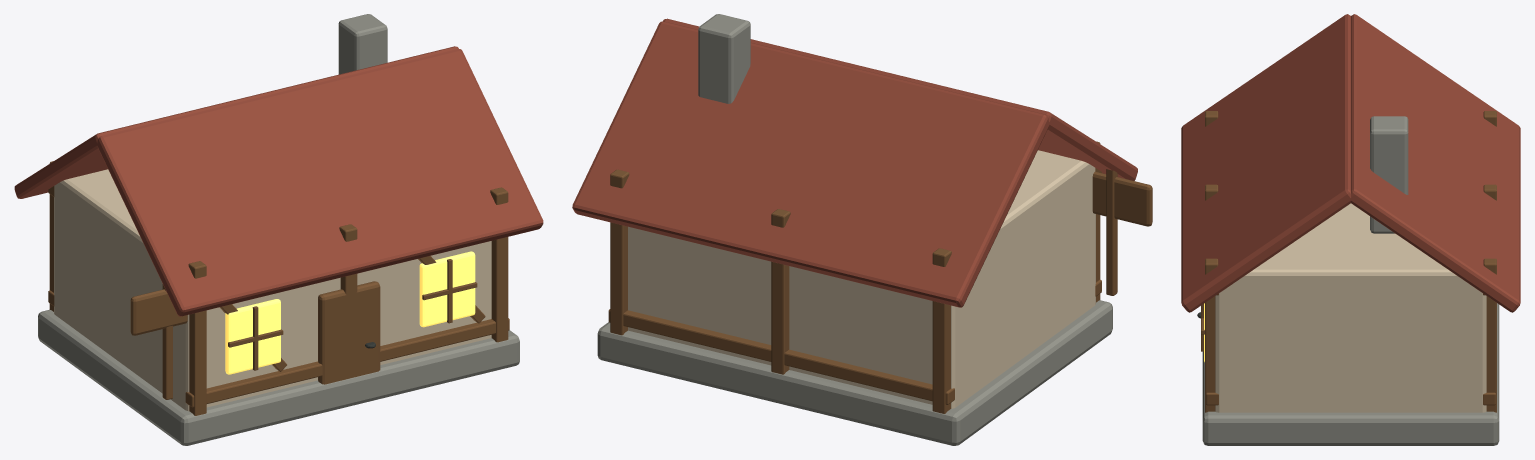
Rendered from medieval-inn.glb.
The picture shows the model from 3 angles, left to right: view 1: azimuth 30°, elevation 25°; view 2: azimuth 150°, elevation 25°; view 3: azimuth 270°, elevation 25°; orthographic projection. The views are drawn at different scales.
Parts seen in each view (by area): view 1: RoofLeft, PlasterWalls, StoneFoundation, Door, RoofRight, OakBeam.002, GlowingWindow.001, GlowingWindow, Chimney, OakPost.004, OakPost, InnSign (+3 smaller); view 2: RoofRight, PlasterWalls, StoneFoundation, OakBeam, RoofLeft, Chimney, OakPost.001, OakPost.003, InnSign, OakPost.005, SignPost; view 3: PlasterWalls, RoofLeft, RoofRight, StoneFoundation, Chimney, OakPost.004, OakPost.005.
Part boxes in pixels (x1,y1,x2,y2): RoofLeft: [96, 49, 543, 316]; PlasterWalls: [54, 169, 491, 411]; StoneFoundation: [38, 309, 519, 445]; Door: [318, 281, 380, 384]; RoofRight: [14, 46, 458, 198]; OakBeam.002: [185, 318, 509, 407]; GlowingWindow.001: [419, 251, 475, 327]; GlowingWindow: [225, 299, 280, 374]; Chimney: [338, 14, 387, 74]; OakPost.004: [490, 187, 508, 342]; OakPost: [188, 261, 206, 415]; InnSign: [130, 289, 187, 335]; RoofRight: [572, 21, 1049, 307]; PlasterWalls: [628, 150, 1095, 408]; StoneFoundation: [597, 300, 1112, 445]; OakBeam: [608, 309, 954, 404]; RoofLeft: [662, 18, 1137, 180]; Chimney: [698, 14, 750, 103]; OakPost.001: [932, 248, 951, 413]; OakPost.003: [771, 209, 790, 374]; InnSign: [1092, 171, 1152, 226]; OakPost.005: [610, 169, 629, 335]; SignPost: [1106, 169, 1117, 295]; PlasterWalls: [1215, 203, 1486, 412]; RoofLeft: [1181, 14, 1351, 312]; RoofRight: [1351, 14, 1520, 312]; StoneFoundation: [1202, 303, 1499, 445]; Chimney: [1370, 116, 1408, 233]; OakPost.004: [1205, 258, 1218, 412]; OakPost.005: [1483, 258, 1496, 412].
Bounding box in the file's own units: 9.55 × 6.75 × 7.08.
